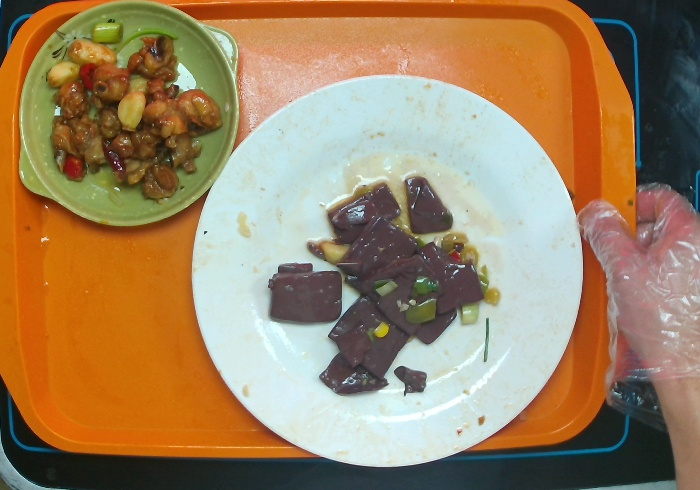NLDX-Da_Yuan_Pan: (189, 71, 586, 473)
NLDX-Lv_Hua_Shuang_Er_Die: (11, 1, 242, 231)
